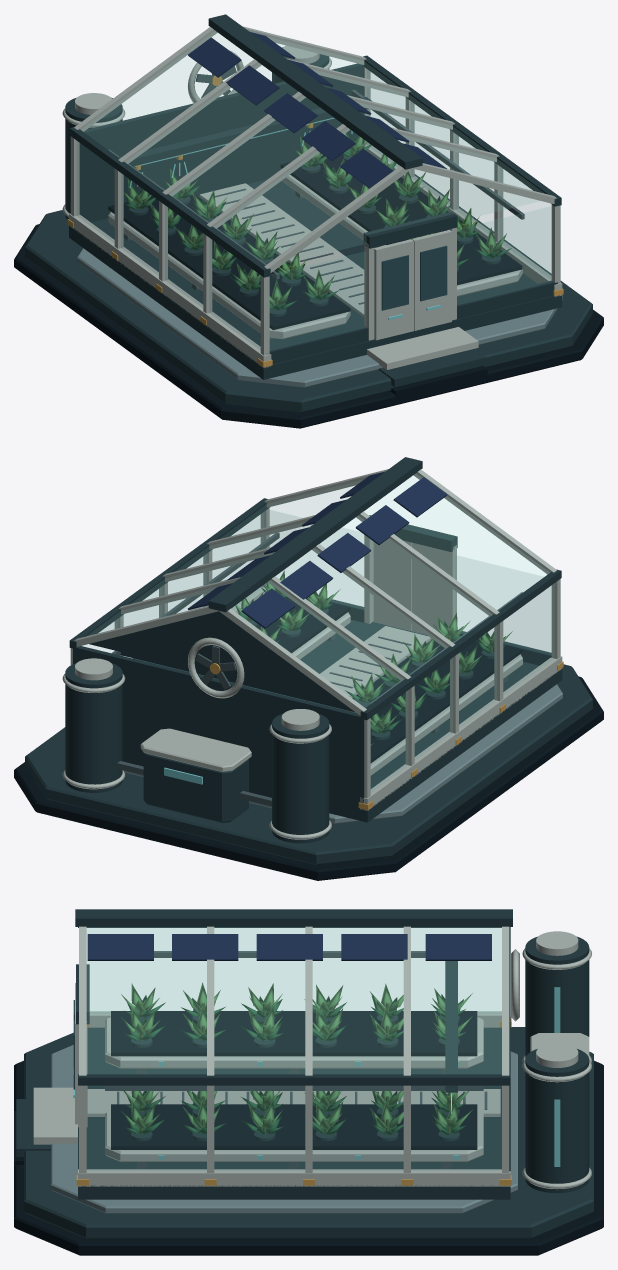
The model's file is greenhouse_d0_lod0.meshopt.glb.
The picture shows the model from 3 angles, top to bottom: view 1: azimuth 30°, elevation 25°; view 2: azimuth 150°, elevation 25°; view 3: azimuth 270°, elevation 25°; orthographic projection. The views are drawn at different scales.
Parts seen in each view (by area): view 1: GREENHOUSE_FRAME, GLAZING, CULTIVATION_INTERIOR, CROP_CANOPY, DOOR_L_PANEL, DOOR_R_PANEL, SERVICE_BRIDGE; view 2: GREENHOUSE_FRAME, GLAZING, CULTIVATION_INTERIOR, CROP_CANOPY, DOOR_R_PANEL, DOOR_L_PANEL, SERVICE_BRIDGE, FAN_ROTOR; view 3: GREENHOUSE_FRAME, GLAZING, CULTIVATION_INTERIOR, CROP_CANOPY, SERVICE_BRIDGE, DOOR_R_PANEL.
Part boxes in pixels (bbox=[...]): GREENHOUSE_FRAME: bbox=[14, 14, 603, 428]; GLAZING: bbox=[77, 31, 551, 350]; CULTIVATION_INTERIOR: bbox=[69, 89, 562, 379]; CROP_CANOPY: bbox=[123, 133, 511, 310]; DOOR_L_PANEL: bbox=[374, 239, 413, 340]; DOOR_R_PANEL: bbox=[412, 230, 451, 330]; SERVICE_BRIDGE: bbox=[118, 97, 371, 170]; GREENHOUSE_FRAME: bbox=[14, 457, 603, 880]; GLAZING: bbox=[84, 474, 553, 791]; CULTIVATION_INTERIOR: bbox=[112, 532, 562, 822]; CROP_CANOPY: bbox=[235, 570, 512, 745]; DOOR_R_PANEL: bbox=[373, 540, 411, 630]; DOOR_L_PANEL: bbox=[412, 542, 446, 634]; SERVICE_BRIDGE: bbox=[120, 652, 371, 712]; FAN_ROTOR: bbox=[195, 646, 236, 689]; GREENHOUSE_FRAME: bbox=[14, 909, 603, 1255]; GLAZING: bbox=[87, 927, 501, 1170]; CULTIVATION_INTERIOR: bbox=[78, 951, 510, 1199]; CROP_CANOPY: bbox=[121, 982, 472, 1135]; SERVICE_BRIDGE: bbox=[445, 961, 457, 1092]; DOOR_R_PANEL: bbox=[73, 1003, 77, 1124].
Bounding box in the file's own units: 10 × 5.35 × 12.
